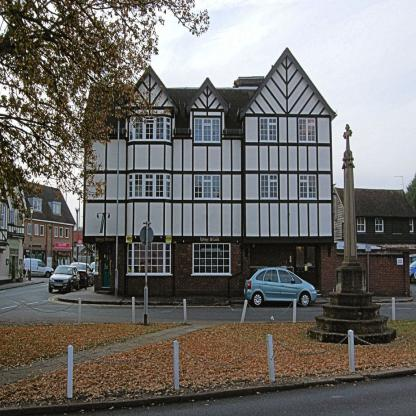Car: (246, 266, 317, 307), (48, 264, 80, 291), (74, 261, 94, 284)
